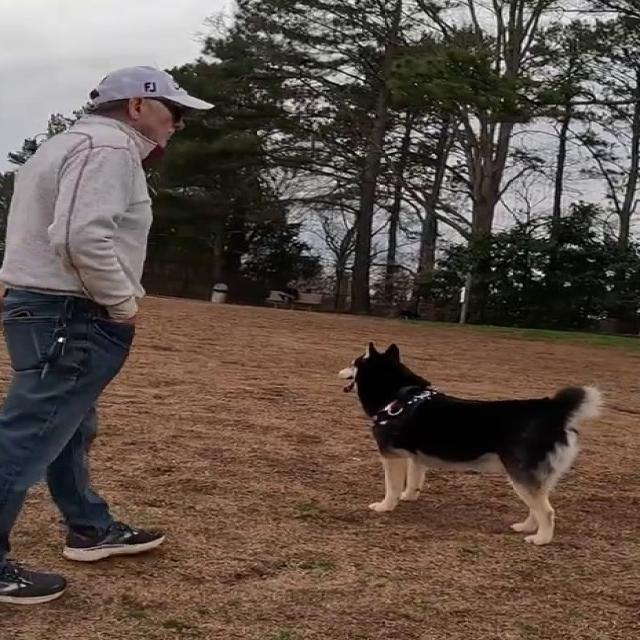Unleashed_Dog: (15, 288, 604, 547)
